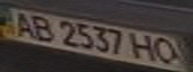2: (51, 18, 78, 47)
3: (90, 25, 112, 54)
5: (72, 21, 96, 52)
7: (109, 27, 130, 57)
A: (6, 10, 42, 38)
B: (24, 14, 60, 43)
H: (127, 32, 160, 62)
O: (151, 36, 184, 66)
